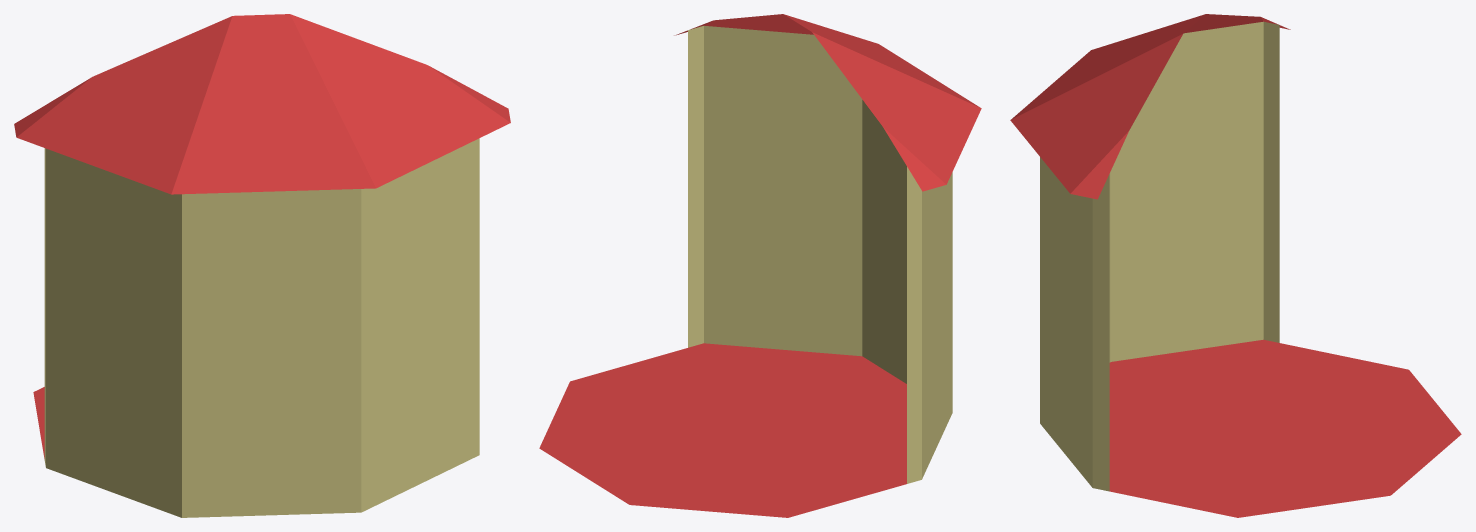
3 renders of one model, left to right at view 1: azimuth 30°, elevation 25°; view 2: azimuth 150°, elevation 25°; view 3: azimuth 270°, elevation 25°, orthographic. The views are drawn at different scales.
Size of the model in its own units: 12.34 by 12.34 by 11.87.
